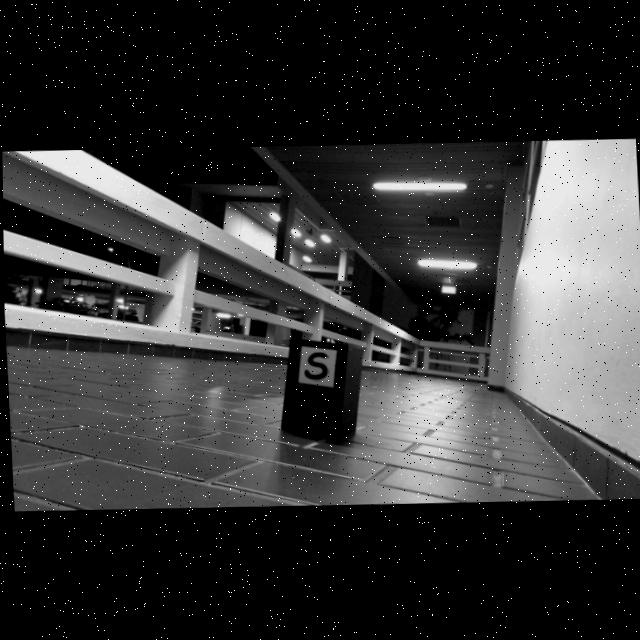S: (303, 351, 327, 379)
